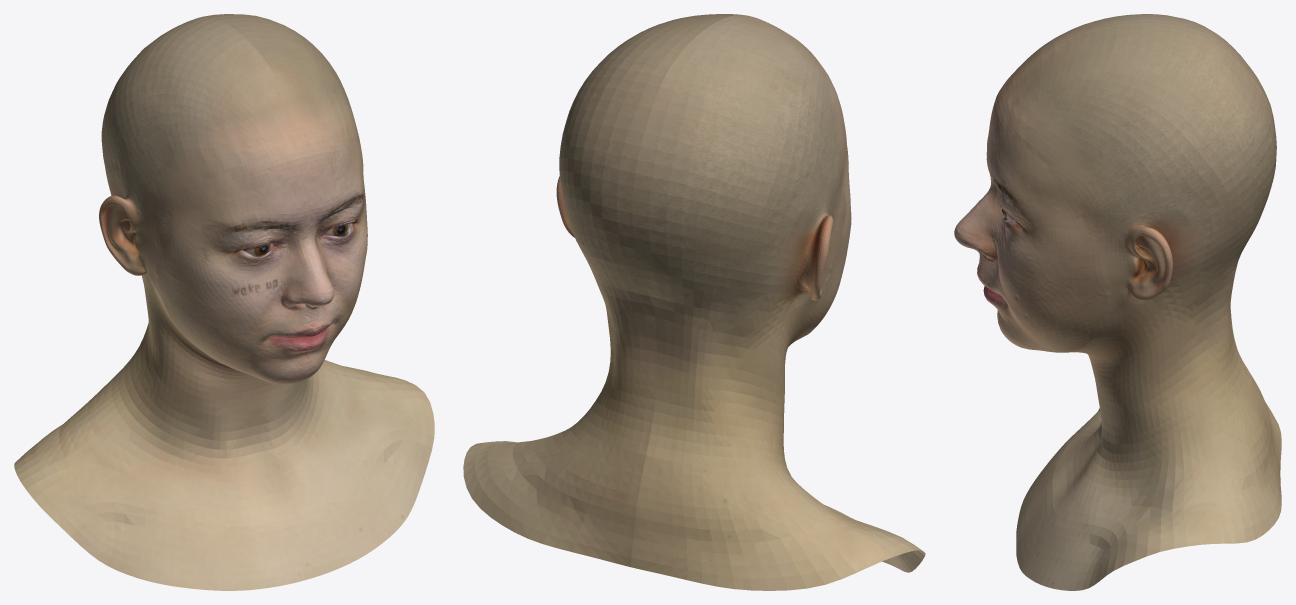
3 renders of one model, left to right at view 1: azimuth 30°, elevation 25°; view 2: azimuth 150°, elevation 25°; view 3: azimuth 270°, elevation 25°, orthographic. The views are drawn at different scales.
Parts seen in each view (by area): view 1: head_lod0_mesh; view 2: head_lod0_mesh; view 3: head_lod0_mesh.
Boxes of the visible parts, x1=… form: head_lod0_mesh: x1=14, y1=14, x2=434, y2=590; head_lod0_mesh: x1=463, y1=14, x2=925, y2=590; head_lod0_mesh: x1=954, y1=14, x2=1281, y2=590.
Size of the model in its own units: 29.88 by 36.49 by 20.89.
